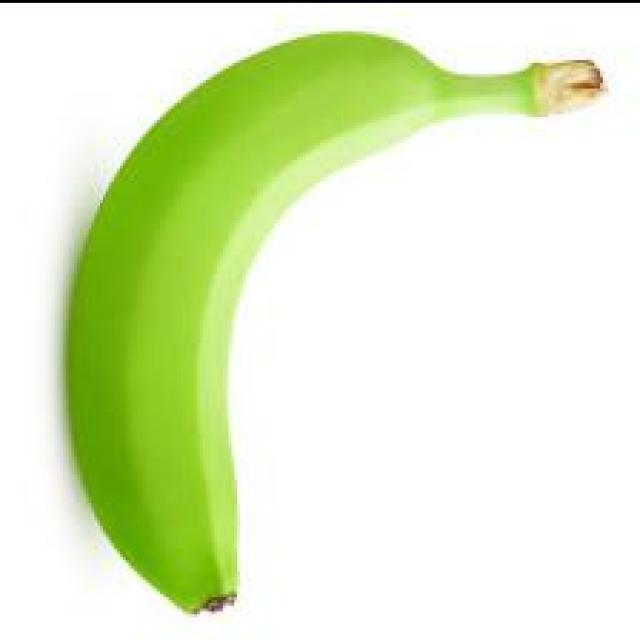fresh-banana: (60, 26, 606, 614)
